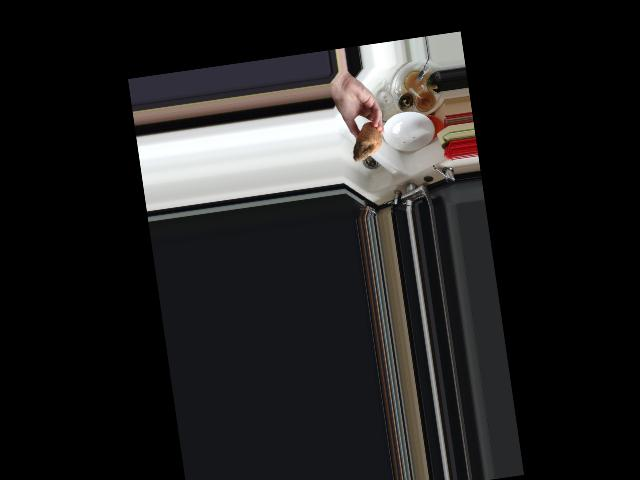sweet_potato: (345, 120, 385, 163)
